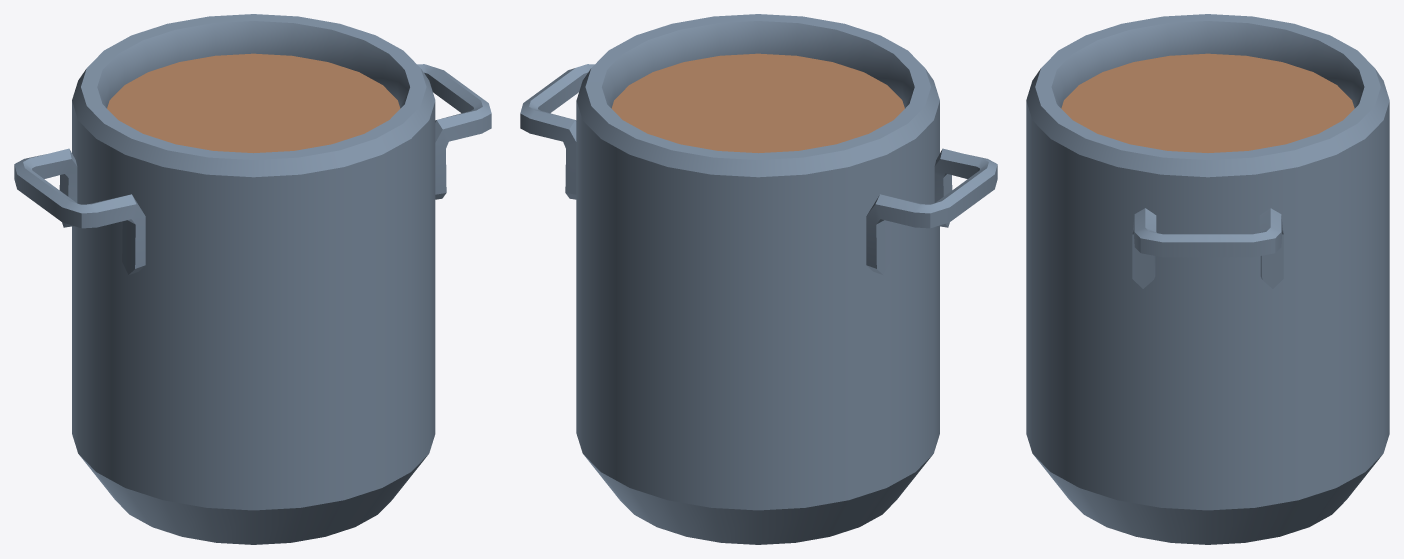
File: pot_2_filled.glb
3 views of the same model, side by side, from view 1: azimuth 30°, elevation 25°; view 2: azimuth 150°, elevation 25°; view 3: azimuth 270°, elevation 25° (orthographic).
Visible parts, largest first — view 1: Environment_Pot_2_Filled; view 2: Environment_Pot_2_Filled; view 3: Environment_Pot_2_Filled.
Part boxes in pixels (left/top/right/bottom): Environment_Pot_2_Filled: left=14, top=14, right=491, bottom=544; Environment_Pot_2_Filled: left=520, top=14, right=997, bottom=544; Environment_Pot_2_Filled: left=1026, top=14, right=1389, bottom=544.
Size of the model in its own units: 1.4 by 1.25 by 1.04.
1 material, 1 textured.
